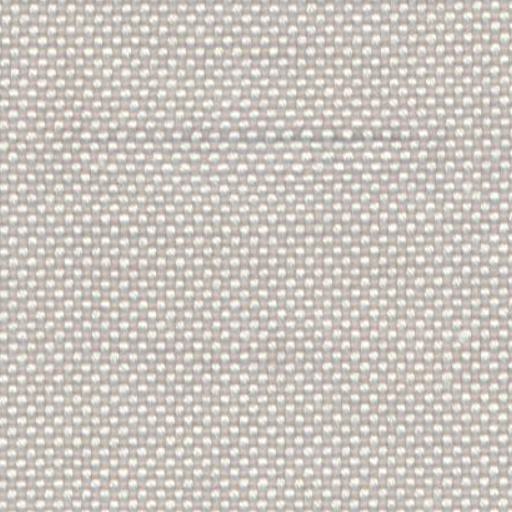WuZi: (140, 126, 404, 140)
